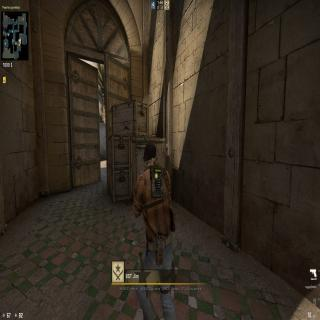T-Head: (143, 140, 159, 169)
